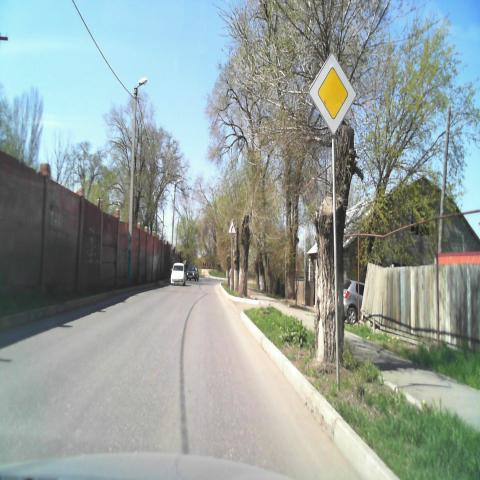1_11: (226, 219, 236, 234)
